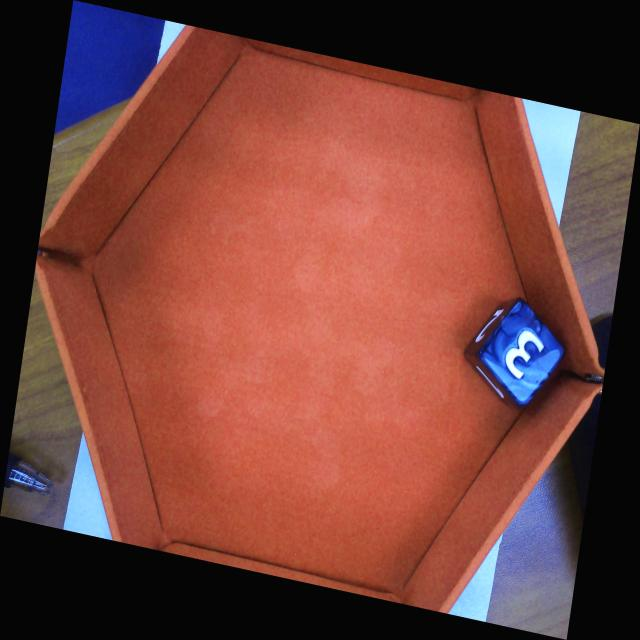dice: (476, 298, 566, 409)
